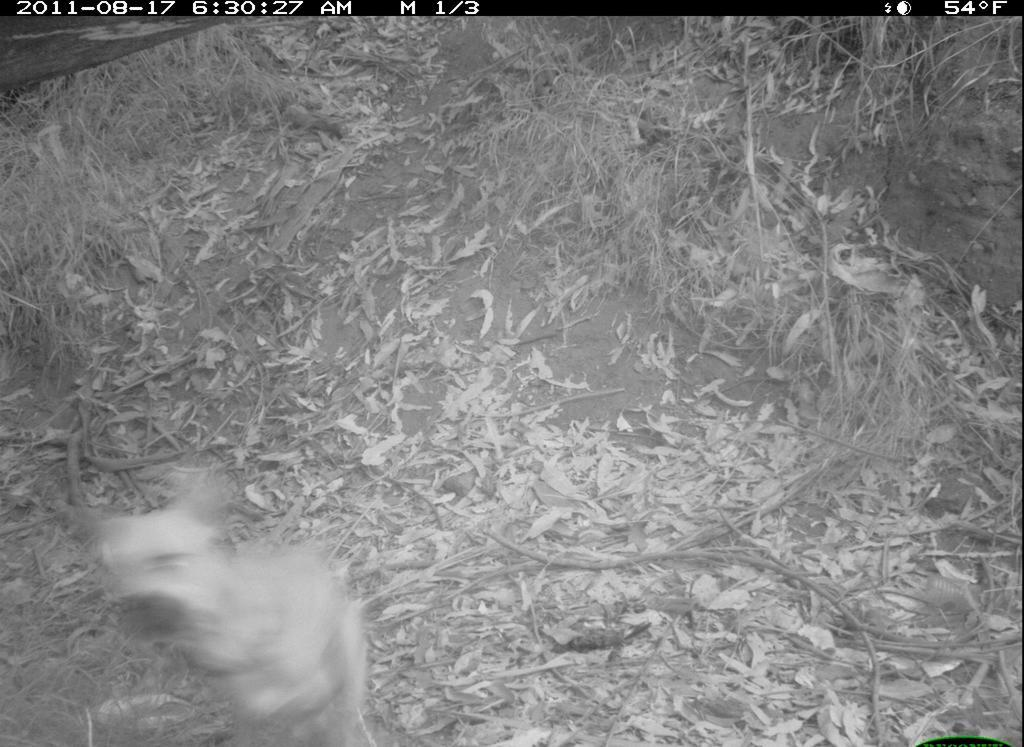dog: (56, 440, 413, 737)
